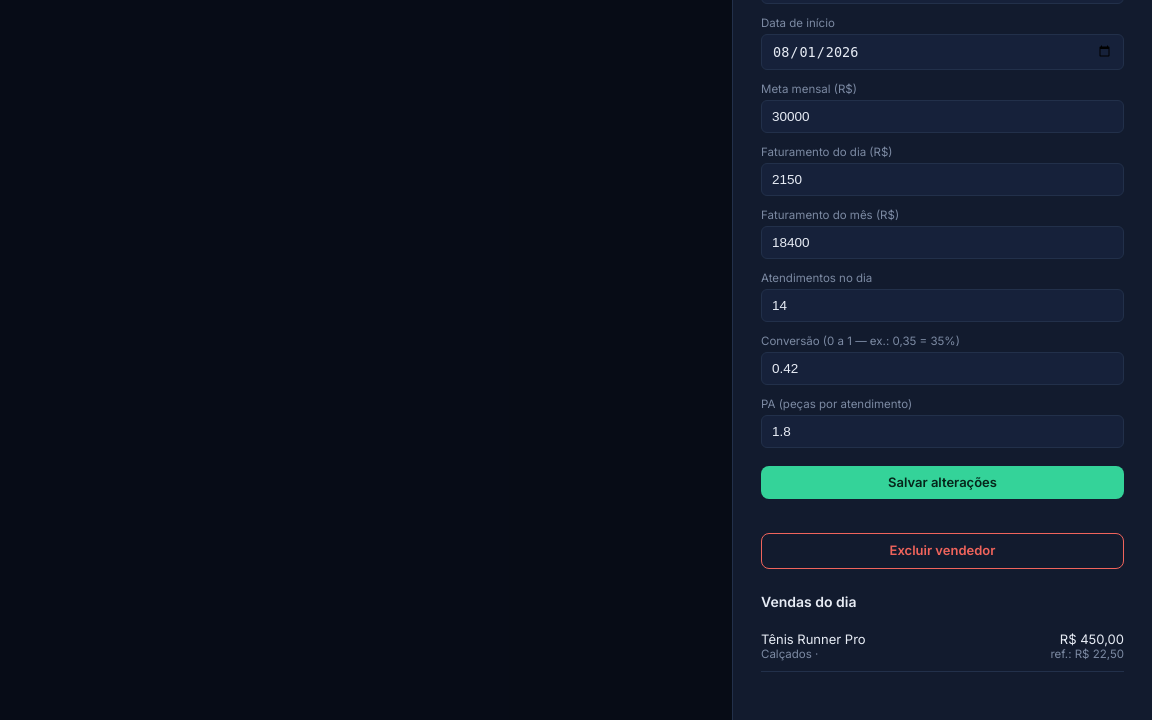
Scenario: gaveta do vendedor › salvar não derruba a tela nem some com as vendas
(page scrolled)
Click the button "Salvar alterações". click: click(942, 482)
box: [761,466,1124,499]
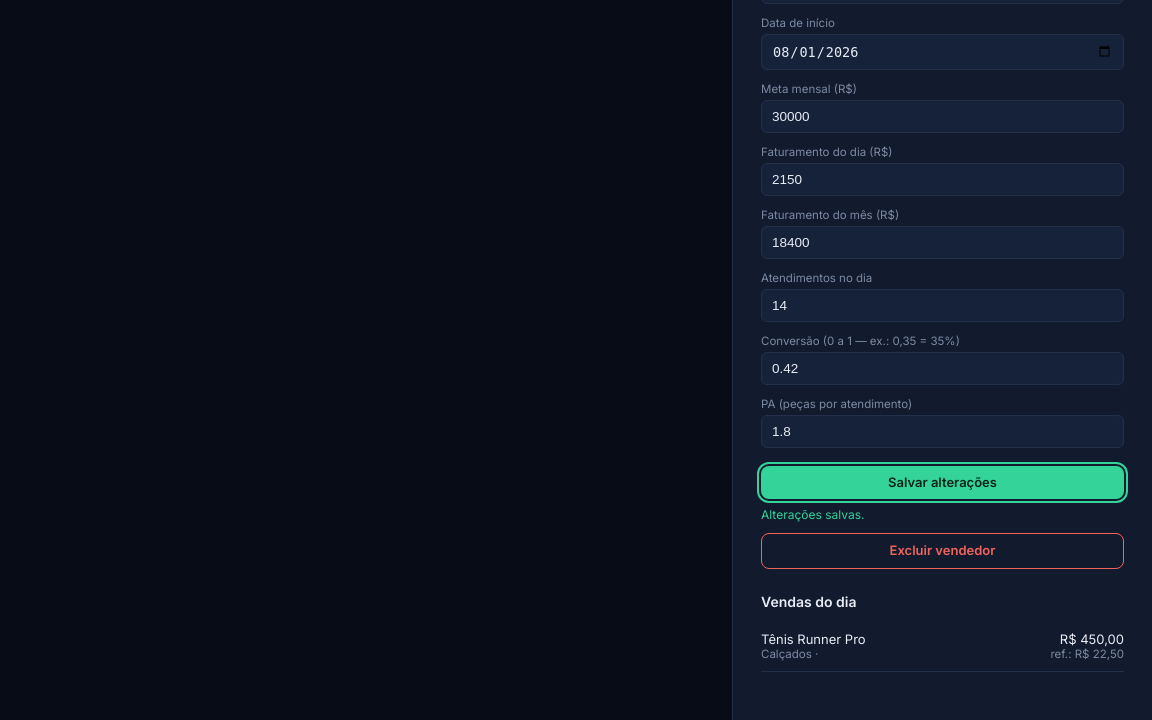
Expected: the text "Tênis Runner Pro" is shown, [761,631,866,647]
Now the text "Alterações salvas." is shown, box [761,507,864,522]
